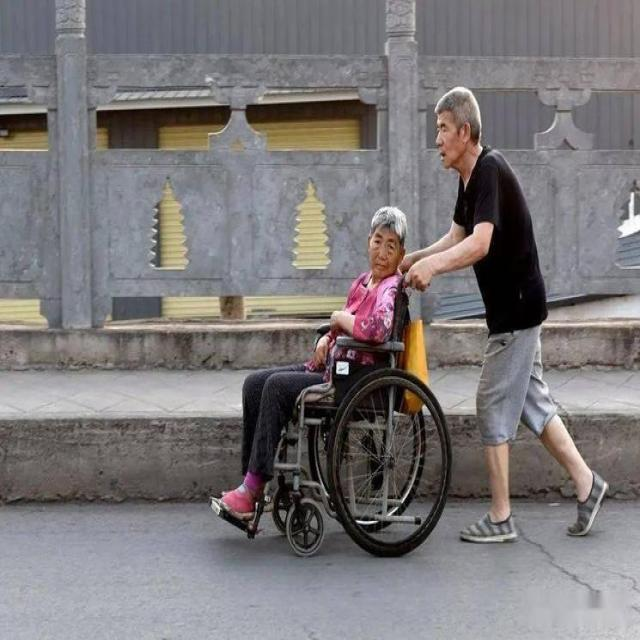wheelchairs: (209, 262, 457, 564)
